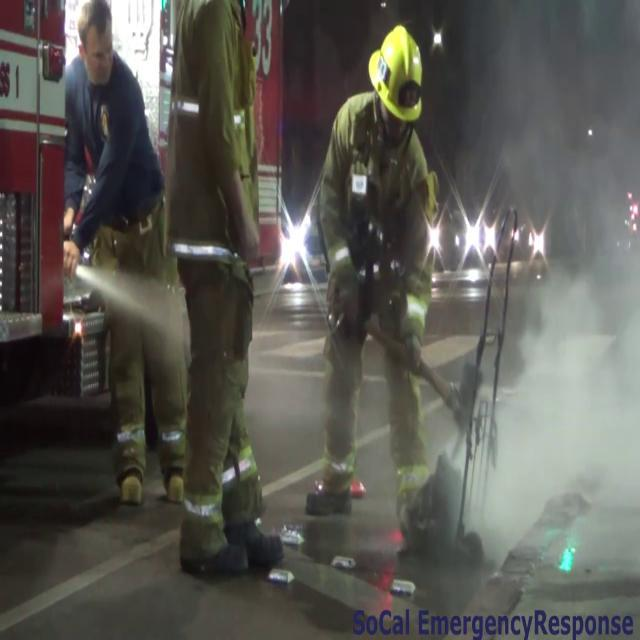Smoke: (483, 0, 640, 566)
